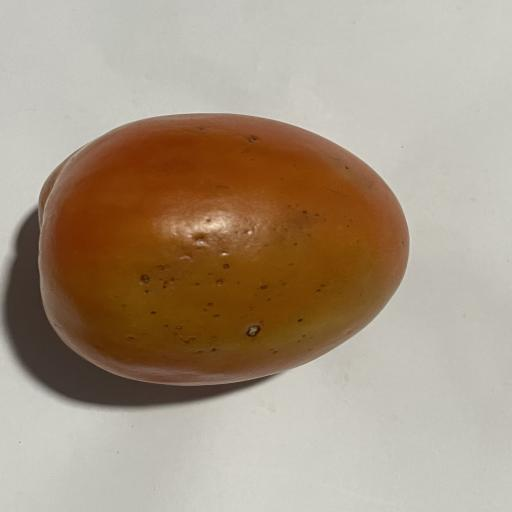unripe: (39, 114, 408, 385)
